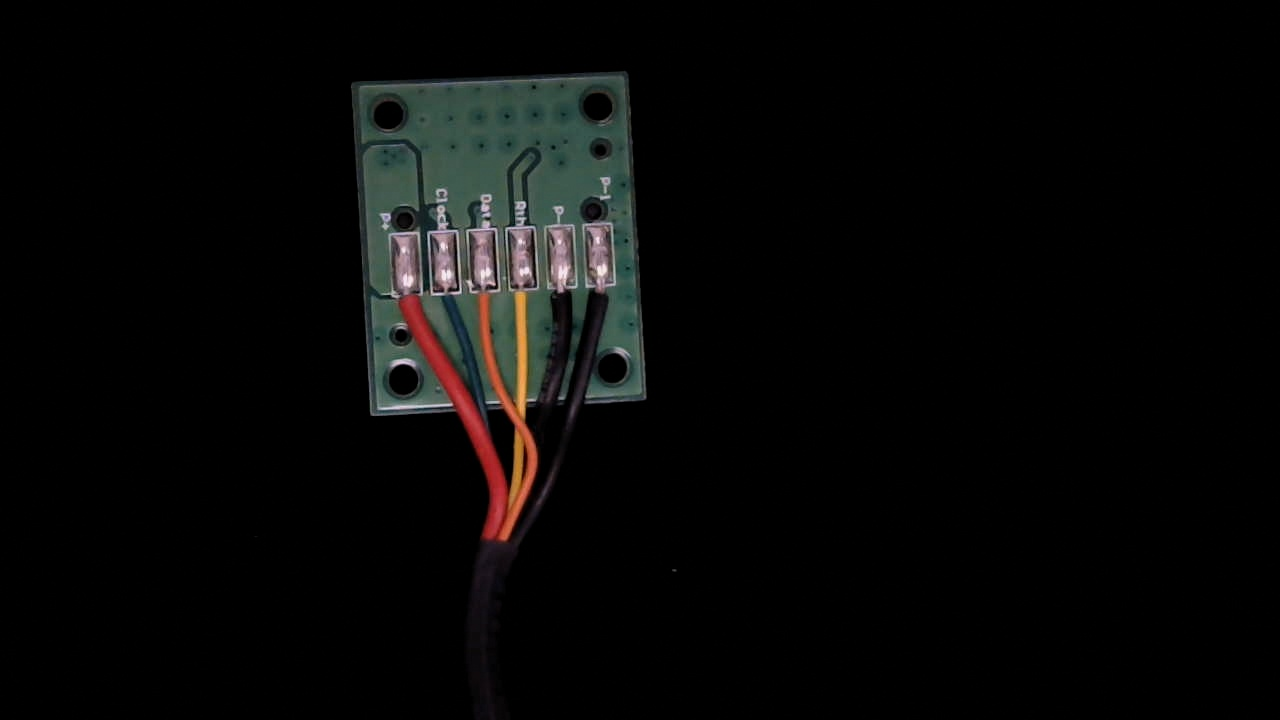Black: (547, 271, 581, 345)
Black1: (586, 271, 620, 339)
Green: (429, 274, 463, 334)
Orange: (469, 273, 502, 346)
Red: (392, 277, 425, 336)
Yellow: (508, 271, 543, 346)
